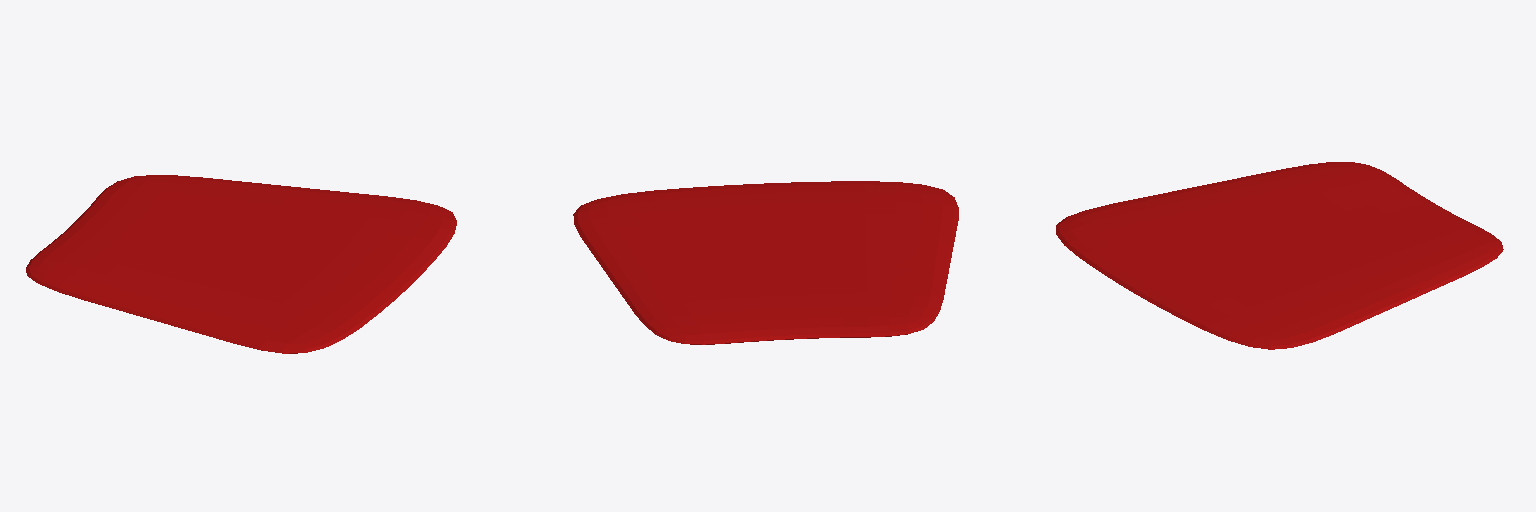
The model's file is terrain_panel_out_se.obj.
The picture shows the model from 3 angles: view 1: azimuth 30°, elevation 25°; view 2: azimuth 150°, elevation 25°; view 3: azimuth 270°, elevation 25°; orthographic projection.
Visible parts, largest first — view 1: terrain_panel_out_se; view 2: terrain_panel_out_se; view 3: terrain_panel_out_se.
Boxes of the visible parts, x1=… form: terrain_panel_out_se: x1=26, y1=175, x2=456, y2=353; terrain_panel_out_se: x1=573, y1=181, x2=958, y2=344; terrain_panel_out_se: x1=1056, y1=162, x2=1503, y2=349.
Bounding box in the file's own units: 88.38 × 2.5 × 89.09.